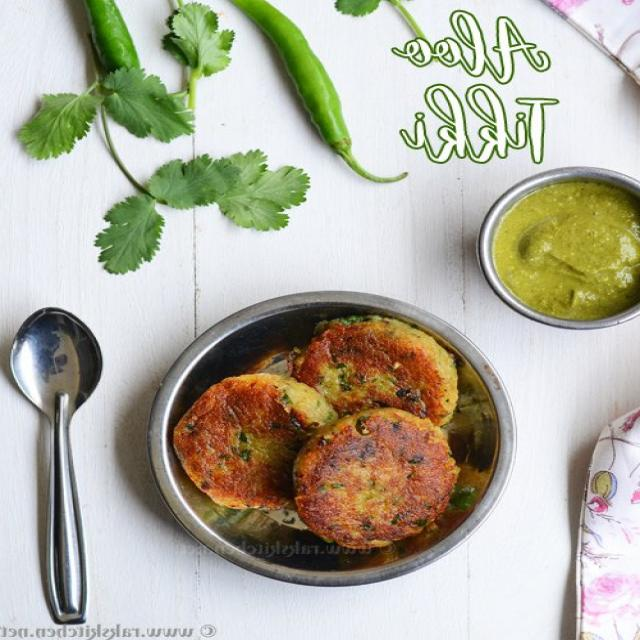Aloo Tikki: (293, 409, 458, 550), (177, 372, 341, 510), (294, 316, 454, 429)
